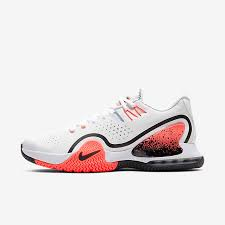nike: (74, 148, 104, 162)
